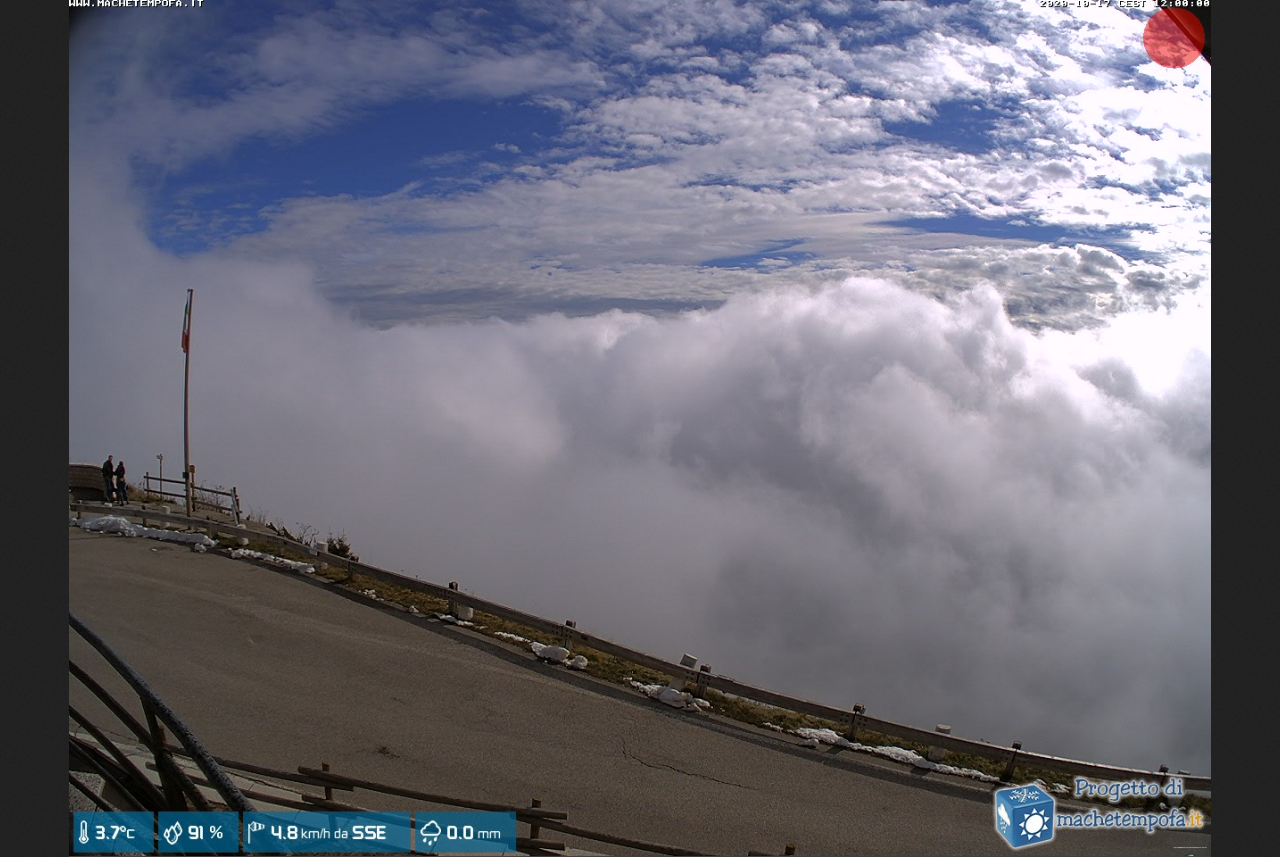no: (180, 295, 194, 359)
